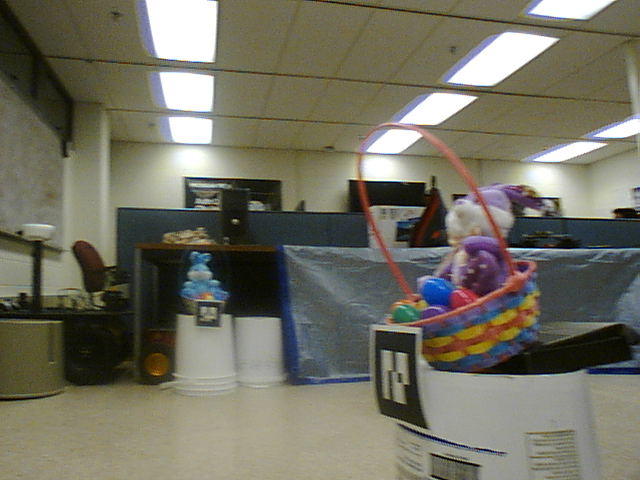bunny: (351, 124, 547, 367), (184, 243, 232, 310)
